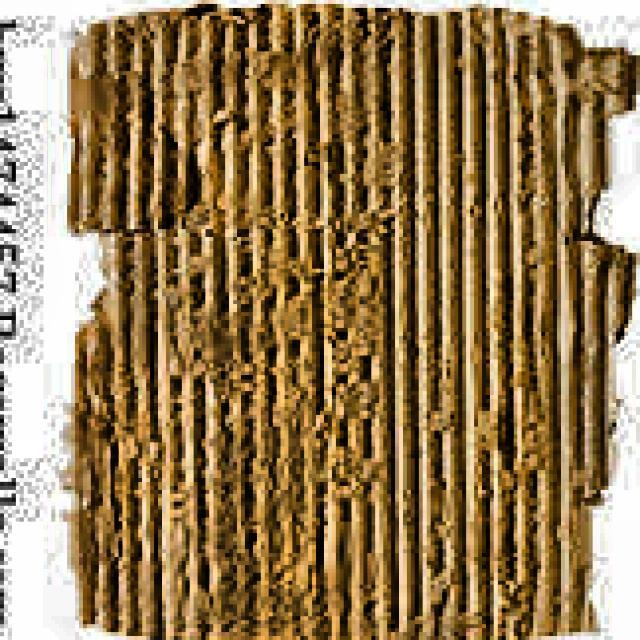cardboard: (67, 4, 640, 640)
